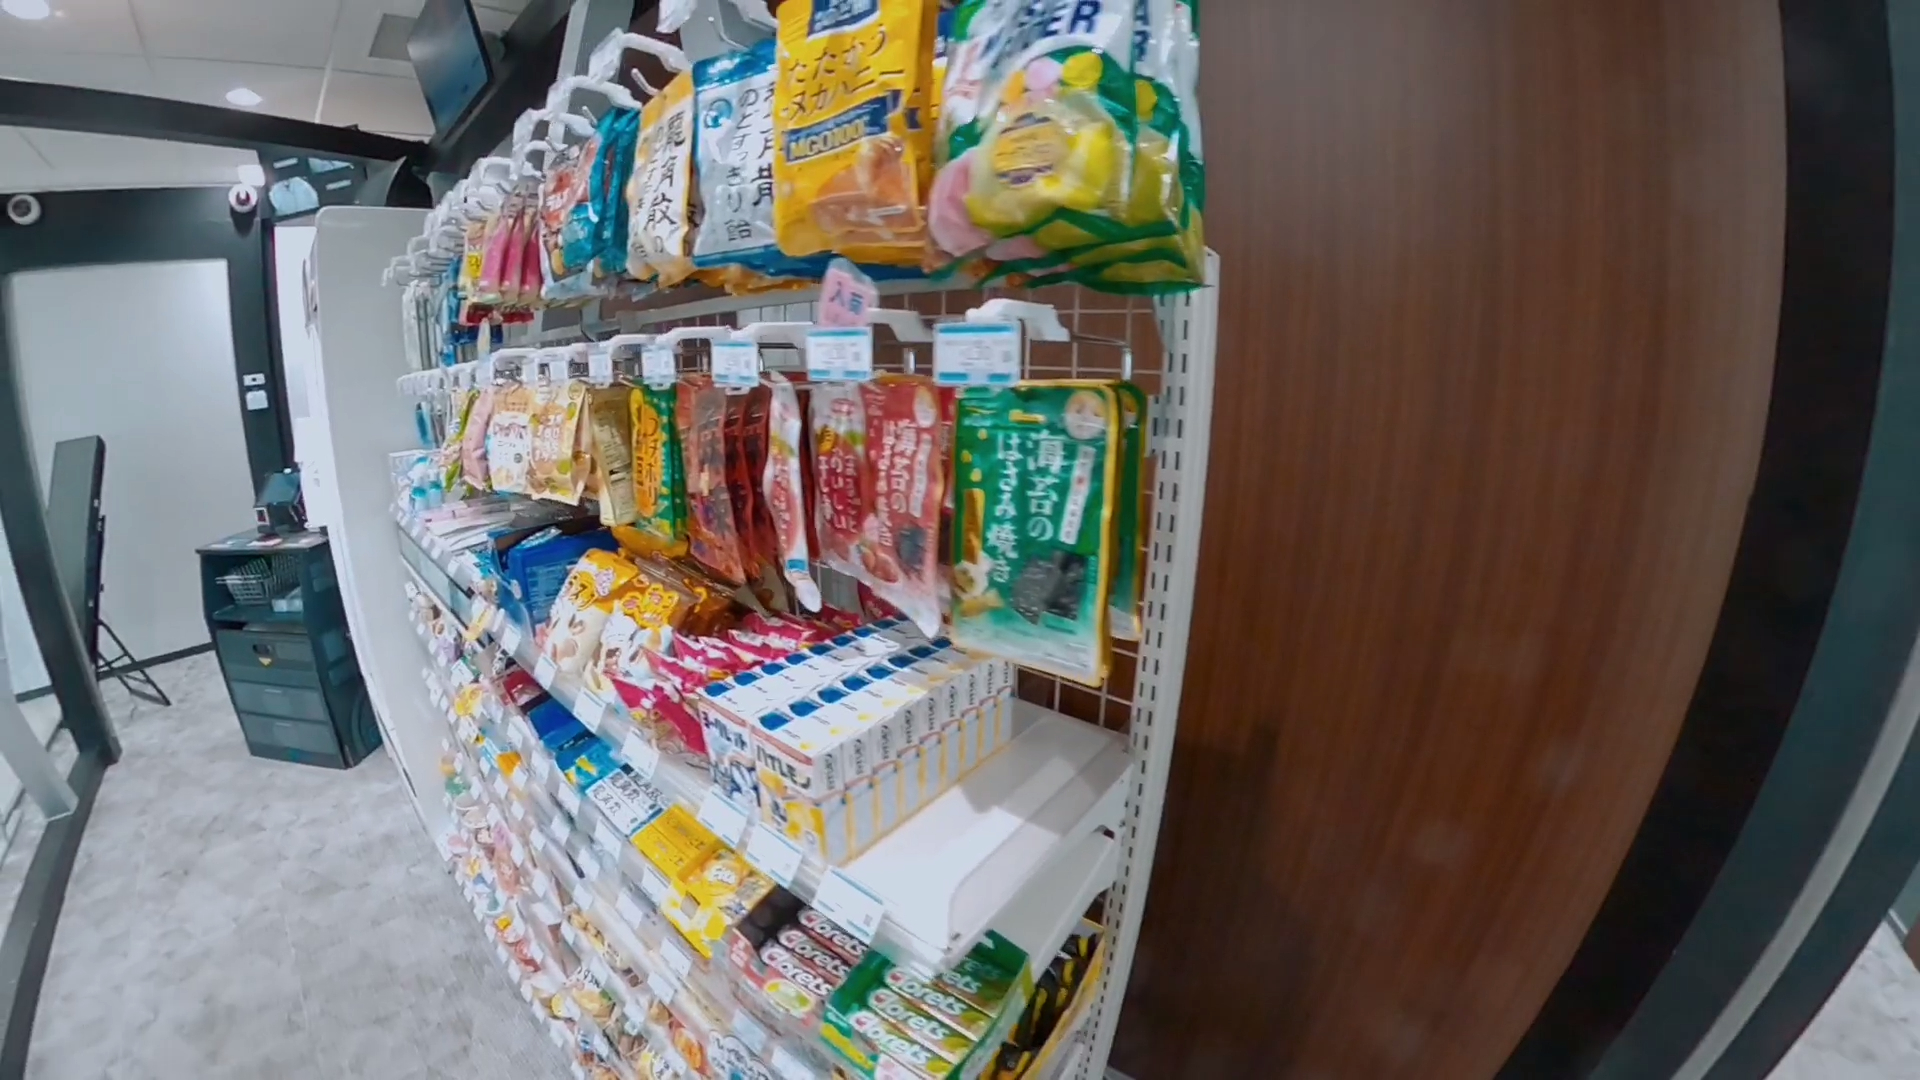NorinoHasamiyaki: (953, 386, 1112, 688)
